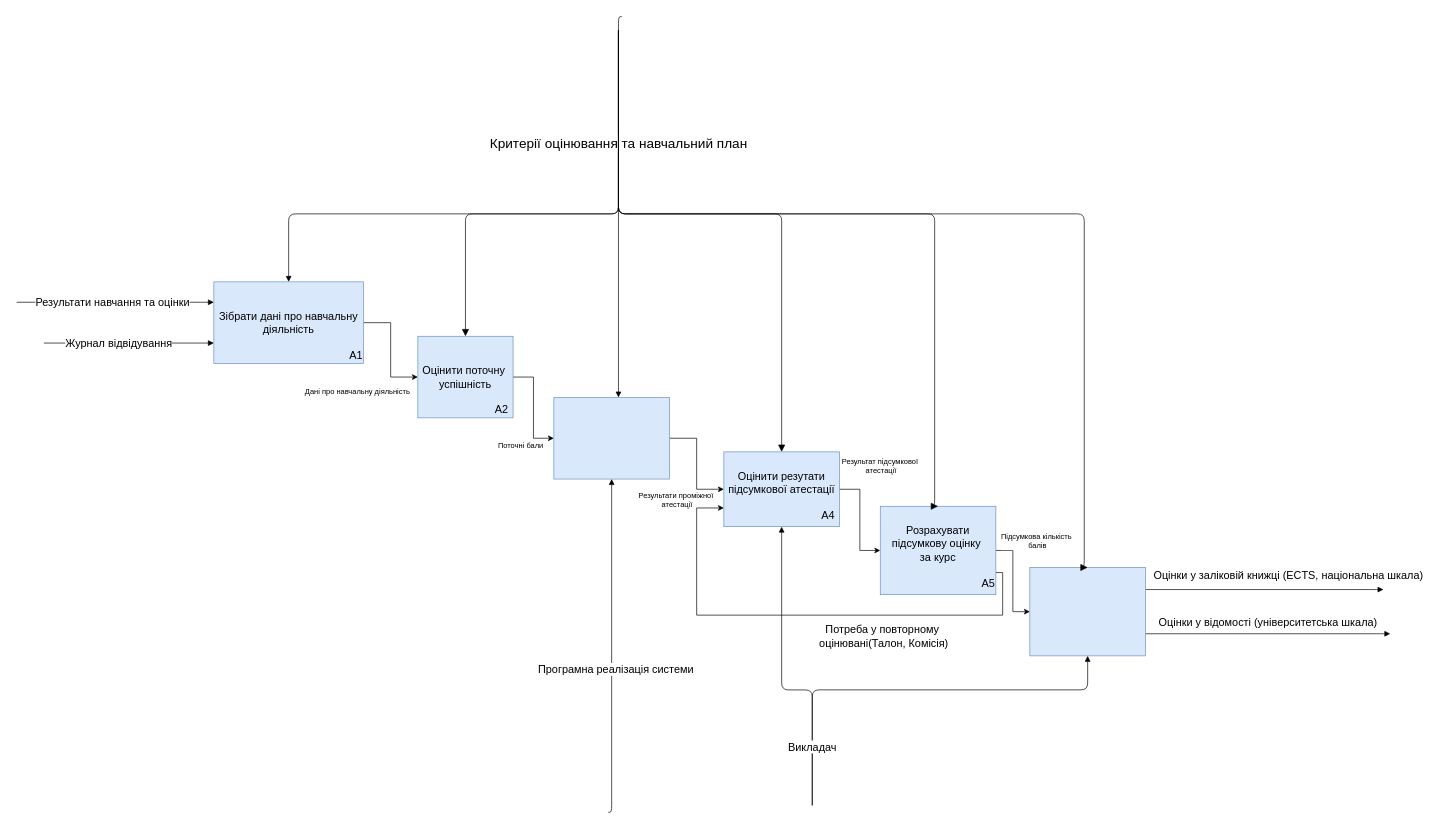
Some shapes in this 1435 by 830 pixel diagram are drawn without their labels. The centre of each missing label's shape, as x and y in pixels:
Оцінити результати проміжної атестації А3: point (611, 438)
Сформувати оцінки у встановлених шкалах А6: point (1087, 611)
